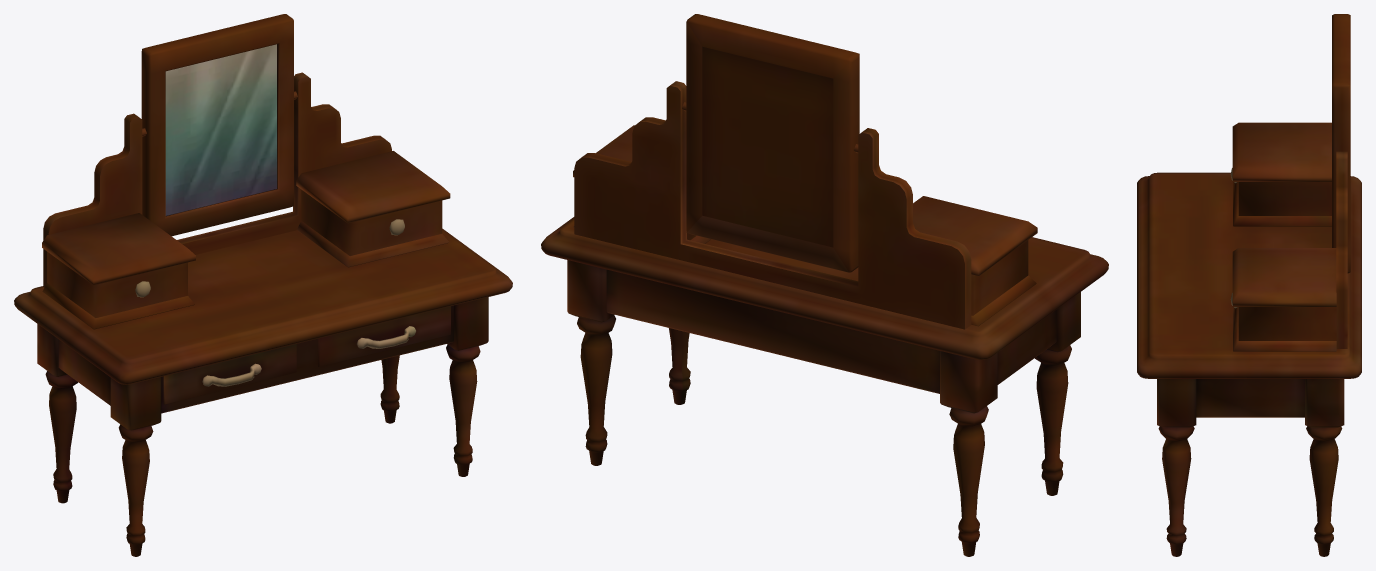
3 renders of one model, left to right at view 1: azimuth 30°, elevation 25°; view 2: azimuth 150°, elevation 25°; view 3: azimuth 270°, elevation 25°, orthographic. The views are drawn at different scales.
Bounding box in the file's own units: 15.6 × 15.99 × 7.63.
Materials: 2 (2 with a texture image).
